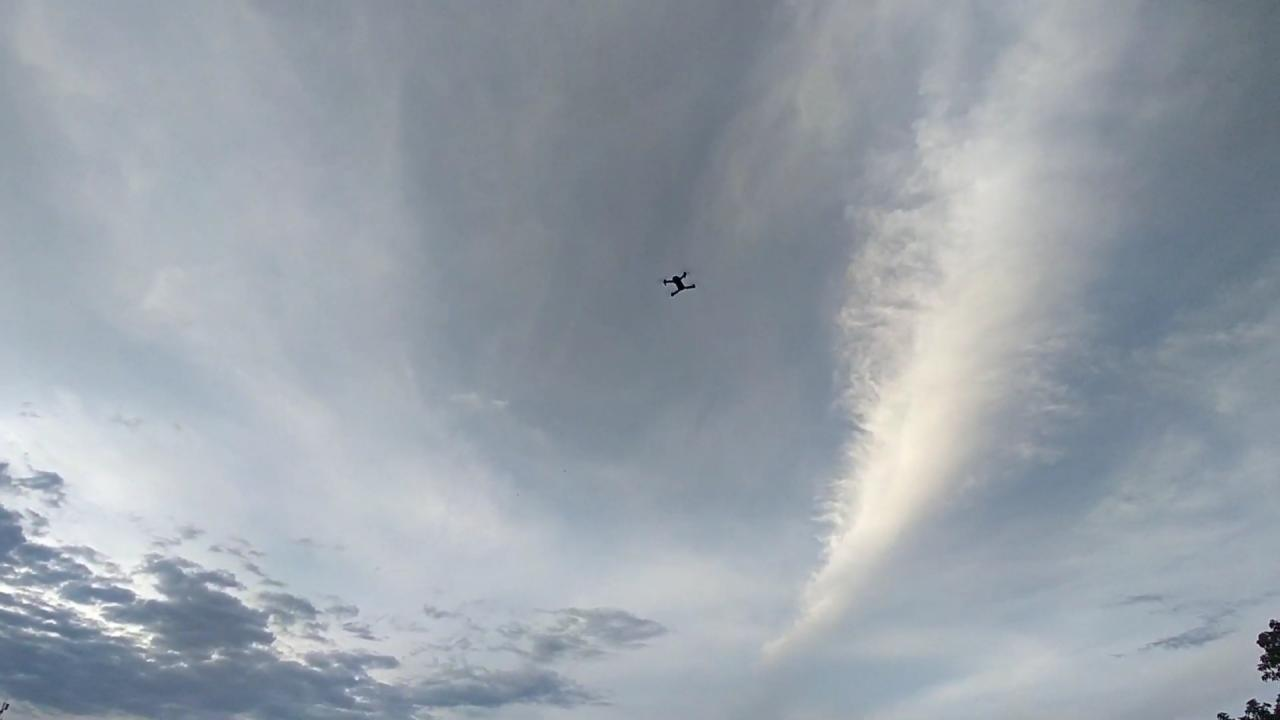Drone: (648, 256, 709, 311)
